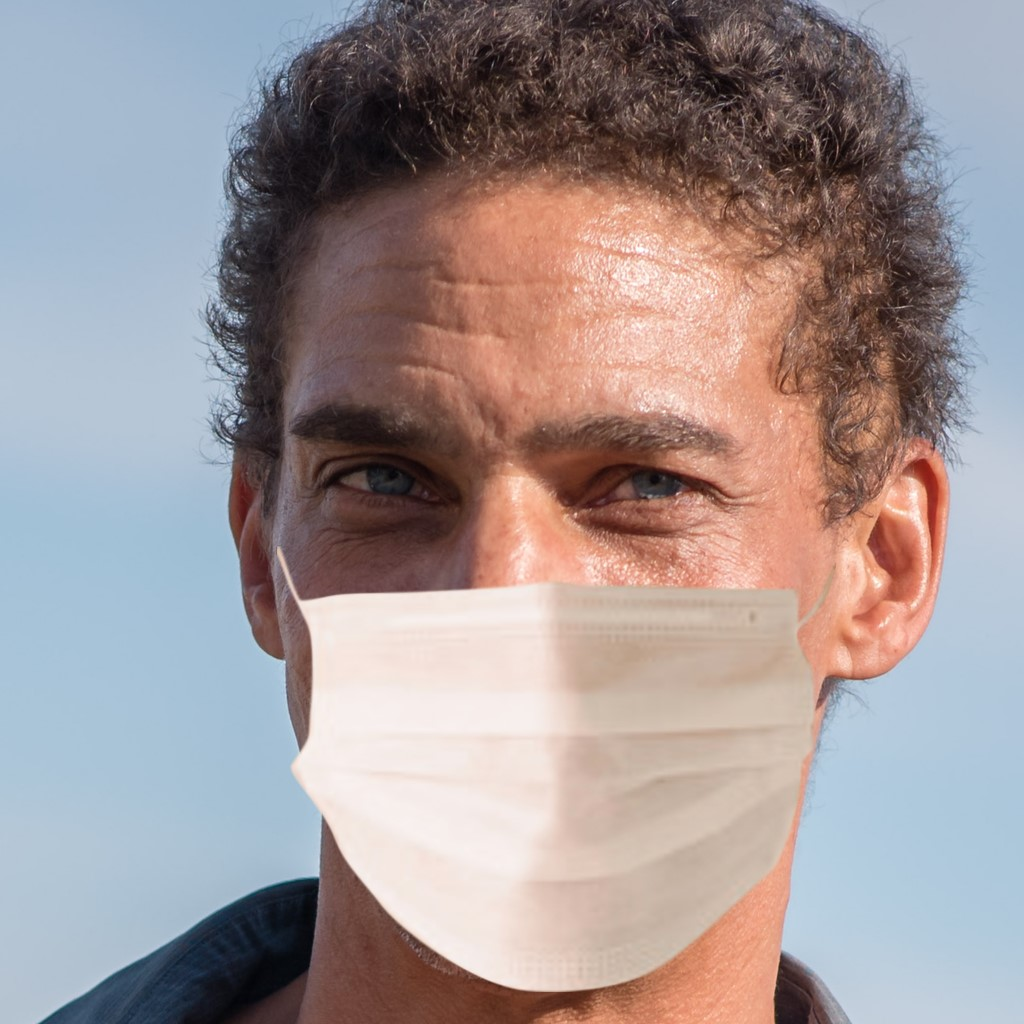con_mascara: (256, 136, 872, 990)
